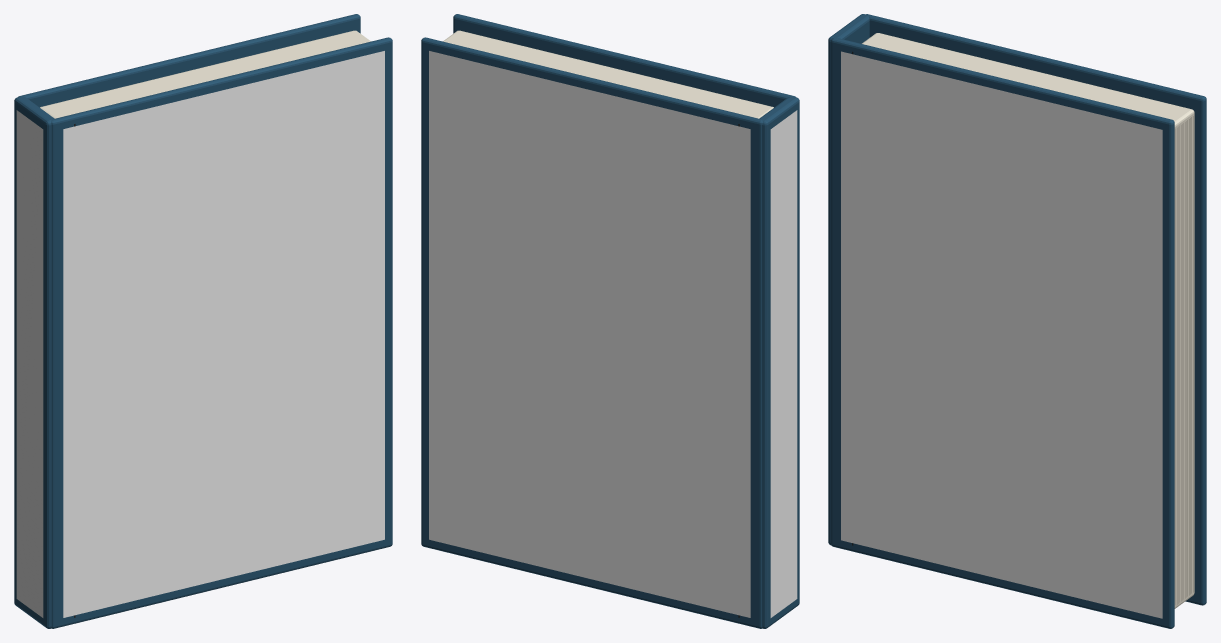
The model's file is preview.glb.
The picture shows the model from 3 angles, left to right: view 1: azimuth 30°, elevation 25°; view 2: azimuth 150°, elevation 25°; view 3: azimuth 330°, elevation 25°; orthographic projection.
Visible parts, largest first — view 1: Book_Print_Front, Book, Book_Print_Spine; view 2: Book_Print_Back, Book, Book_Print_Spine; view 3: Book_Print_Front, Book.
Boxes of the visible parts, box(x1,y1,x2,y2) form: Book_Print_Front: box(63, 51, 384, 617); Book: box(14, 14, 392, 628); Book_Print_Spine: box(16, 110, 43, 617); Book_Print_Back: box(429, 51, 750, 617); Book: box(421, 14, 799, 628); Book_Print_Spine: box(770, 110, 797, 617); Book_Print_Front: box(841, 51, 1162, 618); Book: box(828, 14, 1206, 628).
Size of the model in its own units: 0.1496 by 0.21 by 0.0272.
